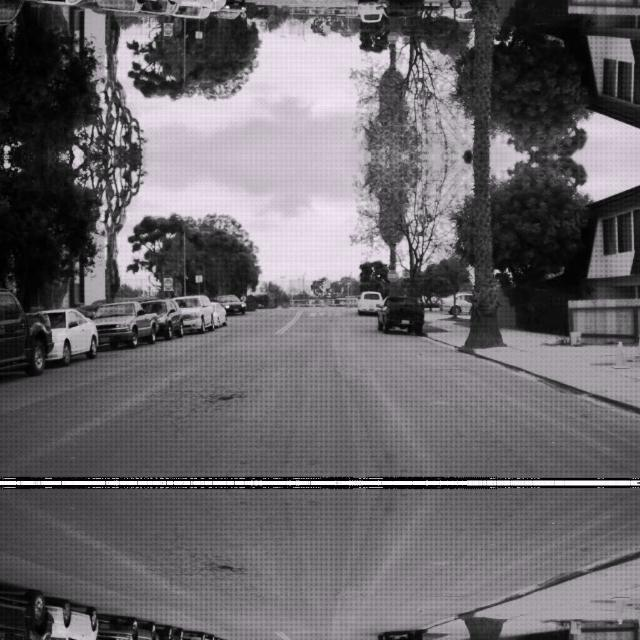stop: (386, 268, 399, 282), (386, 31, 399, 44)
